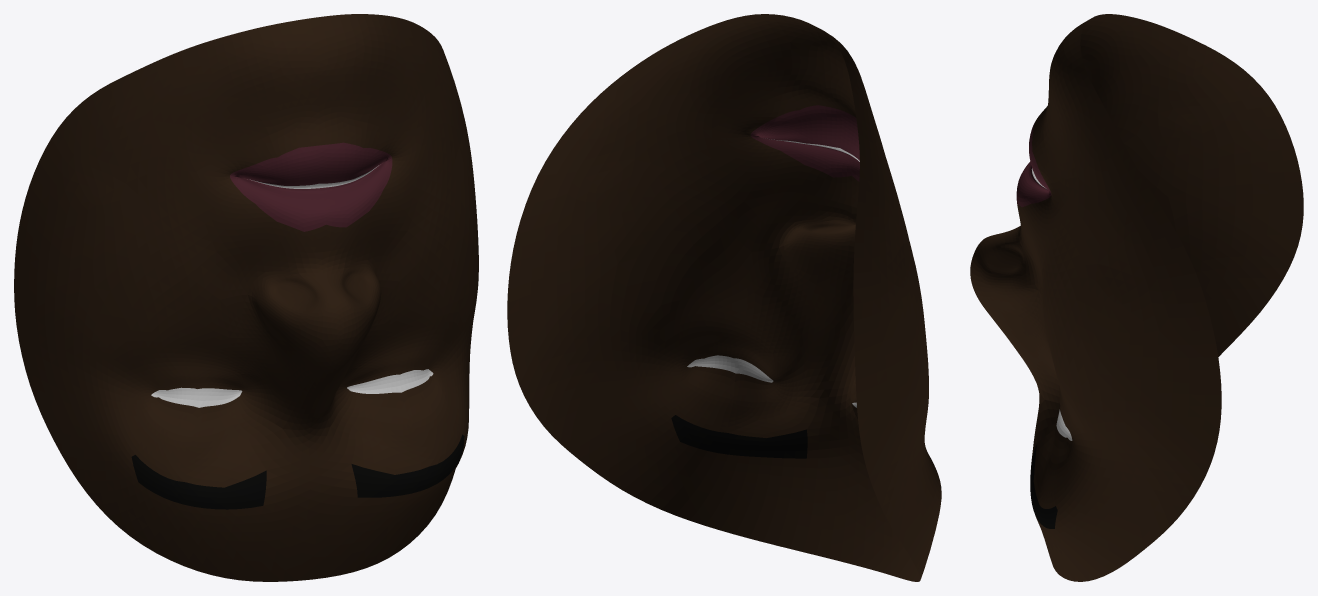
File: IMG_3792.obj
The picture shows the model from 3 angles, left to right: view 1: azimuth 30°, elevation 25°; view 2: azimuth 150°, elevation 25°; view 3: azimuth 270°, elevation 25°; orthographic projection. The views are drawn at different scales.
Parts seen in each view (by area): view 1: face_mesh_subdivided; view 2: face_mesh_subdivided; view 3: face_mesh_subdivided.
Part boxes in pixels (x1,y1,x2,y2): face_mesh_subdivided: (14,14,478,581); face_mesh_subdivided: (507,14,941,581); face_mesh_subdivided: (970,14,1303,581).
Bounding box in the file's own units: 0.5709 × 0.7402 × 0.4346.
